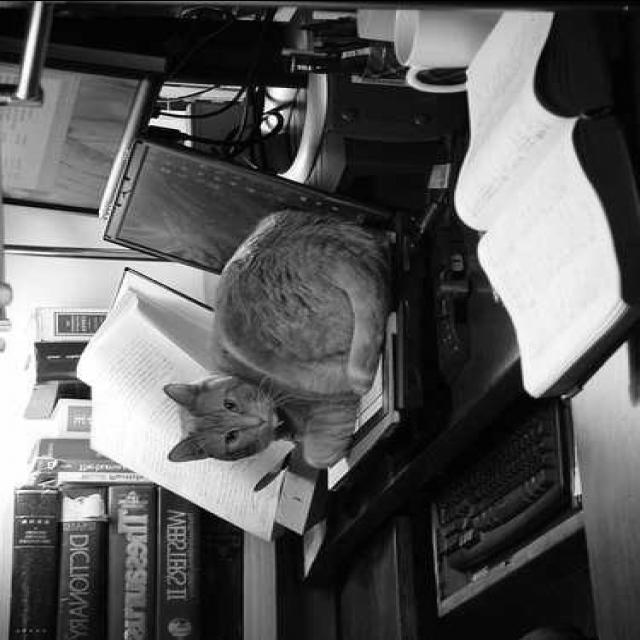laptop: (124, 145, 448, 515)
